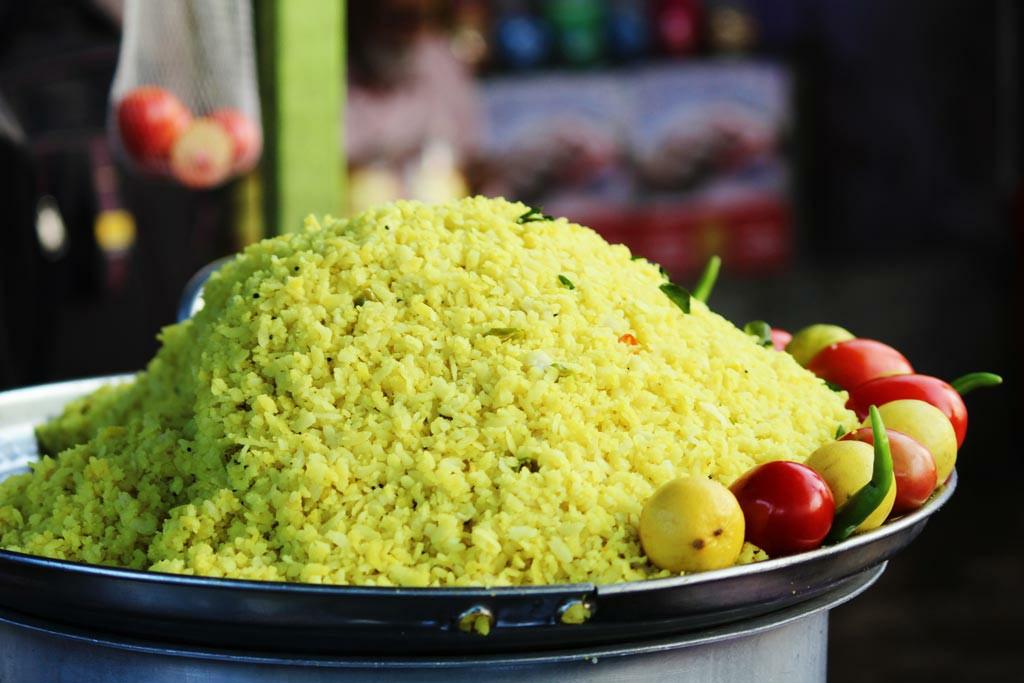Poha: (1, 189, 968, 590)
